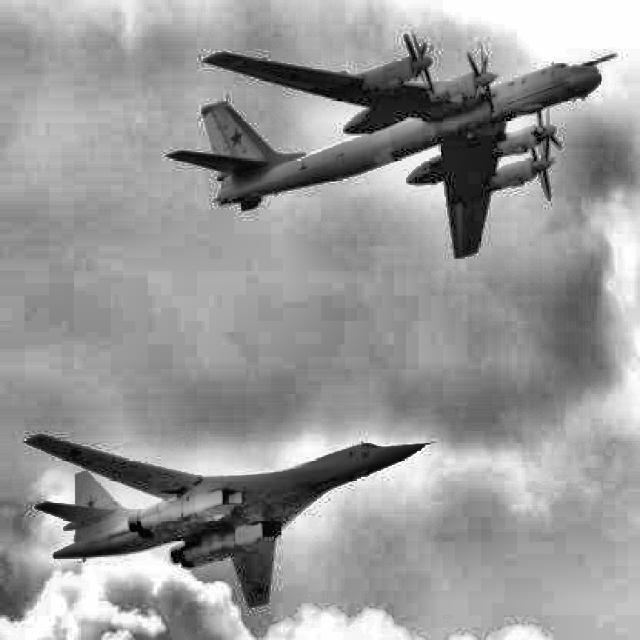Tu160: (23, 434, 434, 609)
Tu95: (165, 30, 618, 259)
